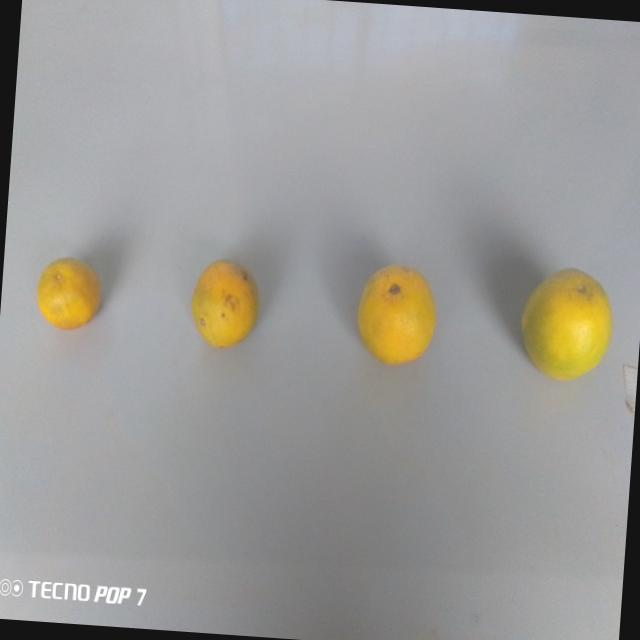Ripe orange: (512, 260, 620, 390), (351, 254, 444, 377), (188, 255, 264, 358), (28, 248, 106, 343)
